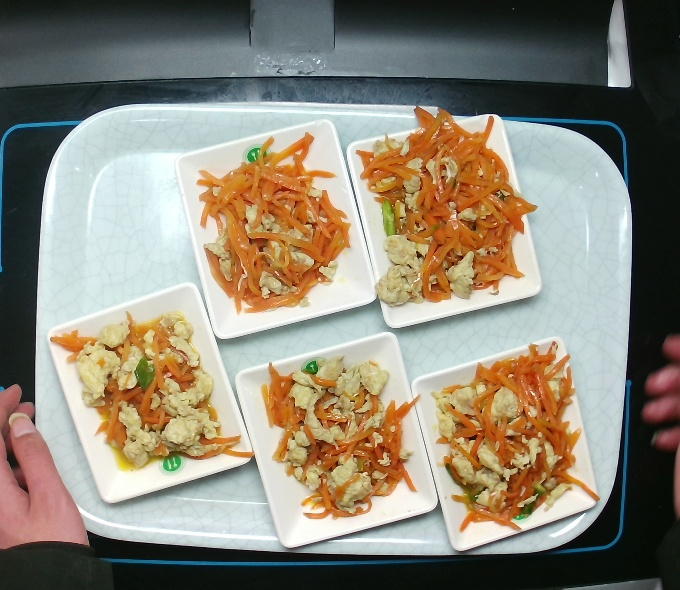wcq-HuLuoBoChaoDan: (353, 110, 537, 308), (190, 151, 356, 318), (432, 354, 598, 521), (256, 359, 422, 526), (55, 316, 221, 483)
